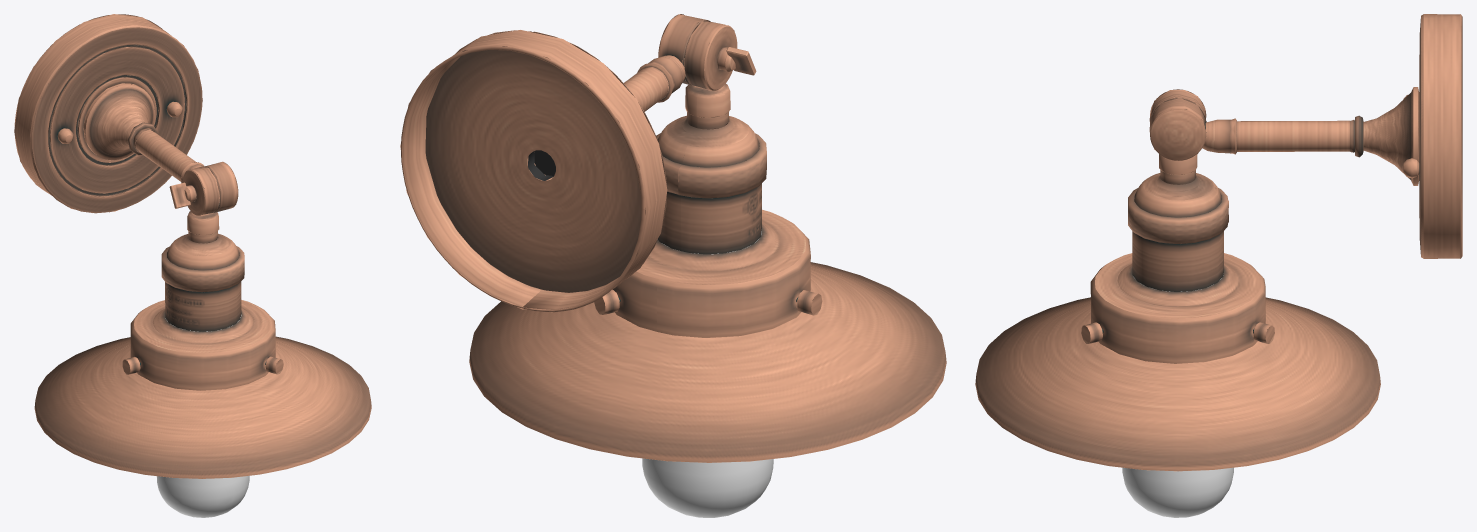
Rendered from BarnLamp.fbx.
3 renders of one model, left to right at view 1: azimuth 30°, elevation 25°; view 2: azimuth 150°, elevation 25°; view 3: azimuth 270°, elevation 25°, orthographic. The views are drawn at different scales.
Visible parts, largest first — view 1: Lamp Metal, Lamp Glass; view 2: Lamp Metal, Lamp Glass; view 3: Lamp Metal, Lamp Glass.
Part boxes in pixels (x1,y1,x2,y2): Lamp Metal: [14, 14, 371, 478]; Lamp Glass: [156, 475, 249, 517]; Lamp Metal: [400, 14, 946, 462]; Lamp Glass: [642, 458, 773, 517]; Lamp Metal: [975, 14, 1462, 471]; Lamp Glass: [1122, 467, 1233, 517].
Size of the model in its own units: 0.1908 by 0.2552 by 0.2265.
Materials: 3 (1 with a texture image).
